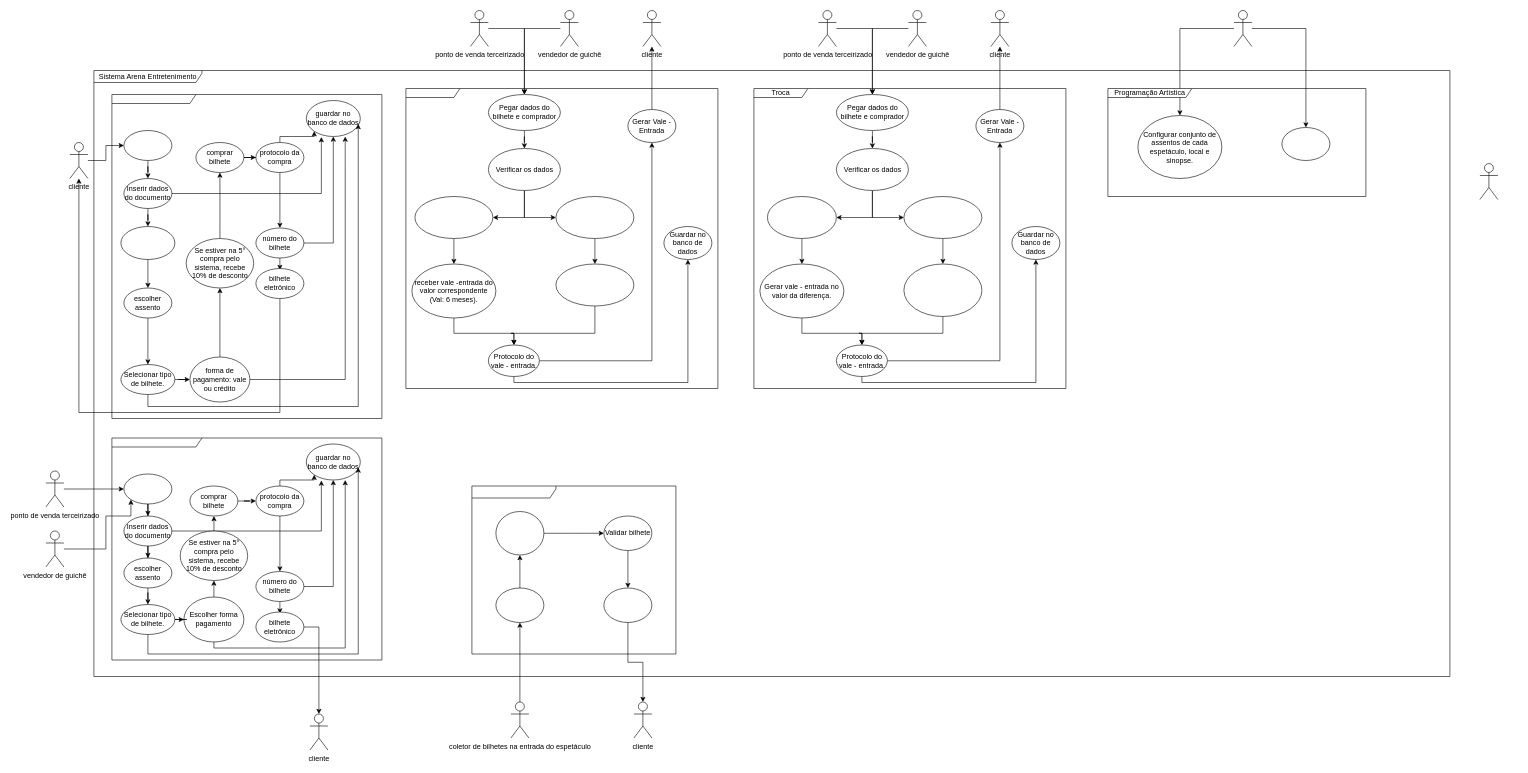
Some shapes in this 1528 by 773 pixel diagram are drawn without their labels. Here are the shapes that lost their labels. From the top down, the box of each, then its label:
(1233, 10, 1252, 46): gerente programação artística
(123, 130, 172, 160): Acessar site
(1281, 127, 1330, 160): Escalonar espetáculo
(1479, 163, 1498, 200): gerente financeiro
(414, 196, 493, 238): Compra do C. crédito não pode ser cancelada.
(555, 196, 634, 238): Compra do c. crédito pode ser cancelada
(767, 196, 836, 238): Entrada Inteira por Meia Entrada
(903, 196, 982, 238): Substituição de Espectador
(120, 226, 175, 260): Verificação de dados
(111, 94, 382, 418): venda de bilhete remoto
(405, 88, 718, 388): Devolução
(555, 263, 634, 306): Receber em dinheiro em um ponto de venda
(903, 263, 982, 316): Realizar a troca de documento vinculada ao ID do bilhete
(123, 473, 172, 504): pegar dados do cliente
(111, 437, 382, 660): venda de bilhete local
(495, 511, 544, 555): Verificar no banco de dados
(471, 485, 676, 654): Verificação de Entrada
(495, 587, 544, 622): Pegar o bilhete do cliente
(603, 587, 652, 622): Devolver bilhete validado
